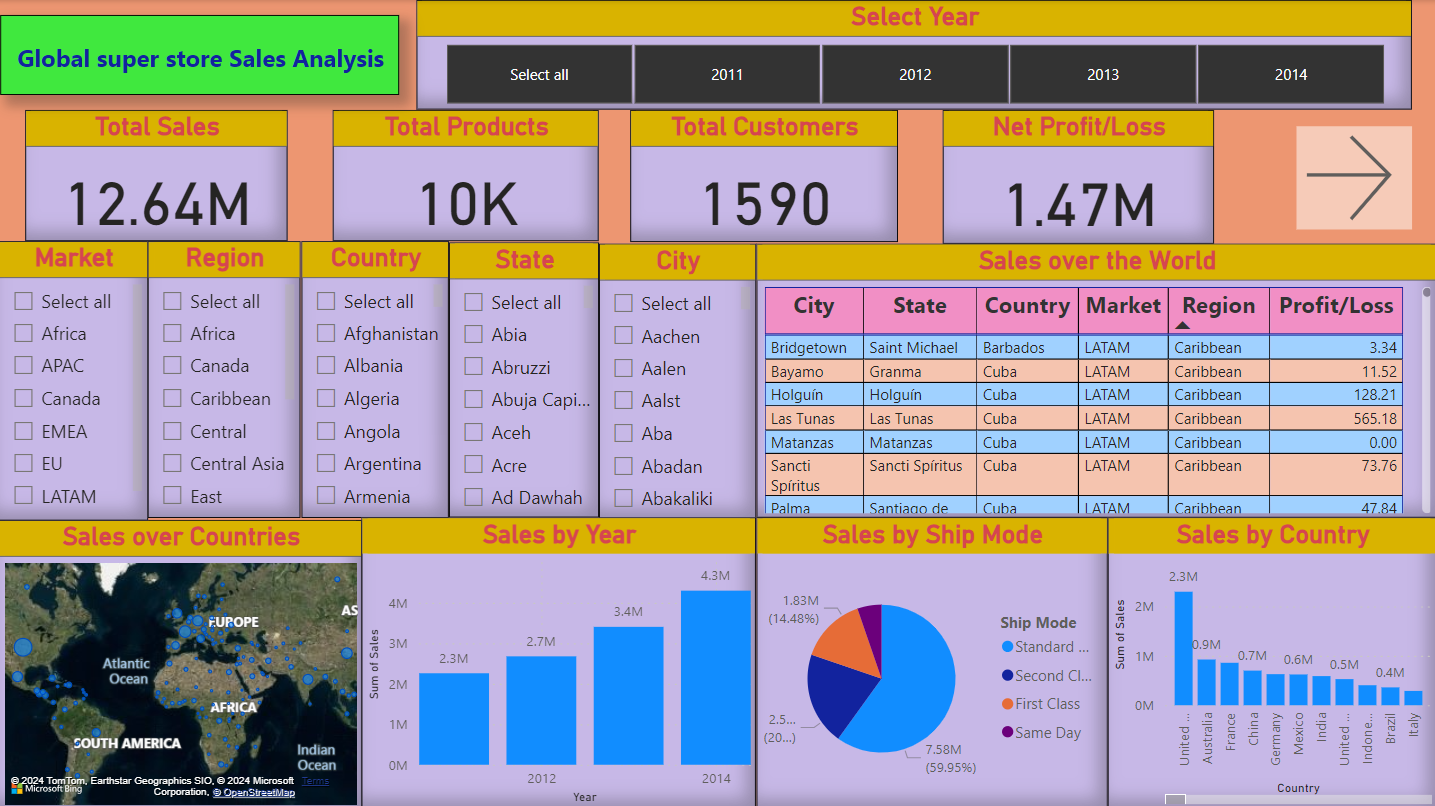

This screenshot's page, from the dashboard's own definition file:
{"tool":"powerbi","page":{"name":"Sales","canvas":[1280,720],"ordinal":0},"visuals":[{"type":"card","title":"Total Products","fields":{"Values":["Global Superstore - Orders.Product count"]},"box":[242.9,98.8,188,116.6],"z":0},{"type":"card","title":"Total Sales","fields":{"Values":["Global Superstore - Orders.Total Sales"]},"box":[23.3,98.8,186.6,115.3],"z":1000},{"type":"card","title":"Total Customers","fields":{"Values":["Global Superstore - Orders.Customer count"]},"box":[458.3,97.4,181.1,119.4],"z":2000},{"type":"card","title":"Net  Profit/Loss","fields":{"Values":["Global Superstore - Orders.Total Profit"]},"box":[665.5,96.1,189.4,119.4],"z":3000},{"type":"pieChart","title":"Sales by Ship Mode","fields":{"Category":["Global Superstore - Orders.Ship Mode"],"Y":["Sum(Global Superstore - Orders.Sales)"]},"box":[356.8,459.7,319.7,247],"z":4000},{"type":"tableEx","title":"Sales over the World","fields":{"Values":["Global Superstore - Orders.State","Global Superstore - Orders.Country","Global Superstore - Returns.Market","Global Superstore - Orders.Region","Sum(Global Superstore - Orders.Sales)"]},"box":[690.2,226.4,590.1,220.9],"z":5000},{"type":"slicer","title":"Country","fields":{"Values":["Global Superstore - Orders.Country"]},"box":[179.8,214.1,177,492.6],"z":7000},{"type":"map","title":"Sales over Countries","fields":{"Category":["Global Superstore - Orders.Country"],"Size":["Sum(Global Superstore - Orders.Sales)"]},"box":[356.8,215.4,319.7,244.3],"z":9000},{"type":"slicer","title":"Select Year","fields":{"Values":["Global Superstore - Orders.Order date.Variation.Date Hierarchy.Year"]},"box":[371.9,0,886.5,97.4],"z":9001},{"type":"lineChart","title":"Sales by Year and Country","fields":{"Category":["Global Superstore - Orders.Order date.Variation.Date Hierarchy.Year","Global Superstore - Orders.Order date.Variation.Date Hierarchy.Quarter","Global Superstore - Orders.Order date.Variation.Date Hierarchy.Month","Global Superstore - Orders.Order date.Variation.Date Hierarchy.Day"],"Series":["Global Superstore - Orders.Country"],"Y":["Sum(Global Superstore - Orders.Sales)"]},"box":[985.3,450.1,295,256.6],"z":9002},{"type":"actionButton","box":[1155.4,112.5,102.9,91.9],"z":9003},{"type":"slicer","title":"Profit or Loss","fields":{"Values":["Global Superstore - Orders.Profit or Loss"]},"box":[879.6,97.4,260.7,116.6],"z":9004},{"type":"clusteredColumnChart","title":"Sales by Country","fields":{"Category":["Global Superstore - Orders.Country"],"Y":["Sum(Global Superstore - Orders.Sales)"]},"box":[690.2,450.1,295,256.6],"z":9005},{"type":"slicer","title":"Market","fields":{"Values":["Global Superstore - Orders.Market"]},"box":[0,214.1,179.8,244.3],"z":9006},{"type":"slicer","title":"Region","fields":{"Values":["Global Superstore - Orders.Region"]},"box":[1.4,458.3,179.8,248.4],"z":9007},{"type":"textbox","box":[1.4,13.7,355.4,71.4],"z":9008}]}

Visuals, with their boxes in screenshot pixels (x1, y1, x2, y2), scaled from the page's 1280x720 canvas onto the 1435x806 screenshot:
"Total Products" card: locate(272, 111, 483, 241)
"Total Sales" card: locate(26, 111, 235, 240)
"Total Customers" card: locate(514, 109, 717, 243)
"Net  Profit/Loss" card: locate(746, 108, 958, 241)
"Sales by Ship Mode" pieChart: locate(400, 515, 758, 791)
"Sales over the World" tableEx: locate(774, 253, 1434, 501)
"Country" slicer: locate(202, 240, 400, 791)
"Sales over Countries" map: locate(400, 241, 758, 515)
"Select Year" slicer: locate(417, 0, 1411, 109)
"Sales by Year and Country" lineChart: locate(1105, 504, 1434, 791)
actionButton: locate(1295, 126, 1411, 229)
"Profit or Loss" slicer: locate(986, 109, 1278, 240)
"Sales by Country" clusteredColumnChart: locate(774, 504, 1105, 791)
"Market" slicer: locate(0, 240, 202, 513)
"Region" slicer: locate(2, 513, 203, 791)
textbox: locate(2, 15, 400, 95)
